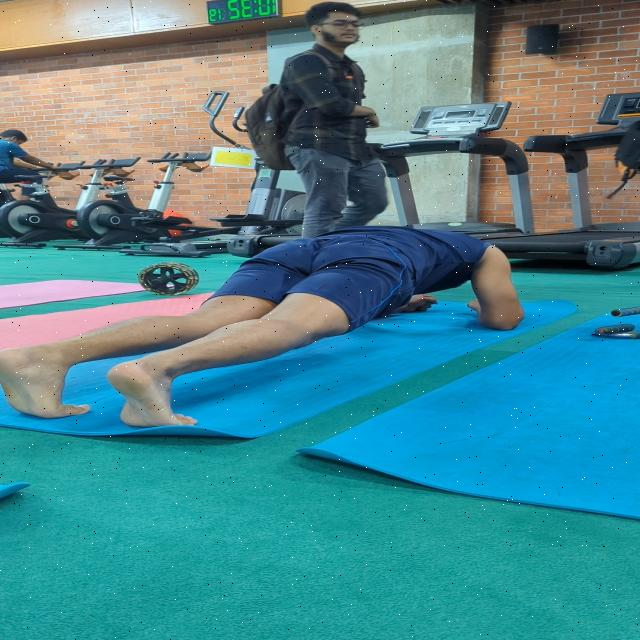Normal_Plunk: (0, 218, 532, 450)
